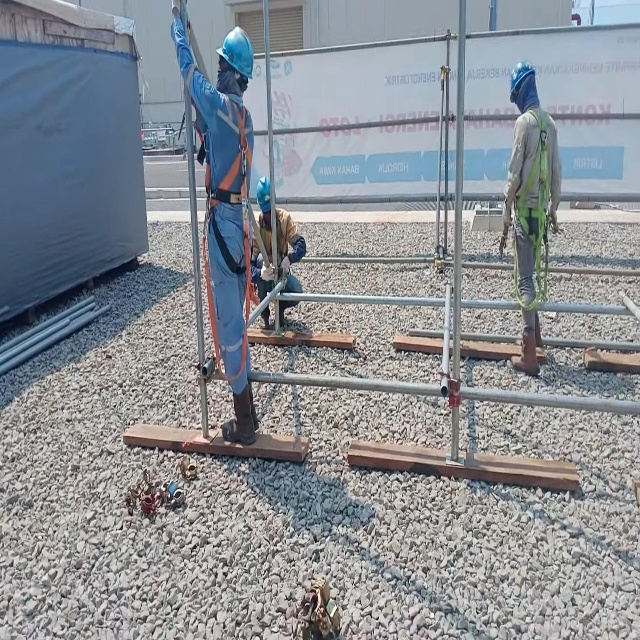Arnes_seguridad: (200, 101, 262, 384), (510, 106, 554, 310)
